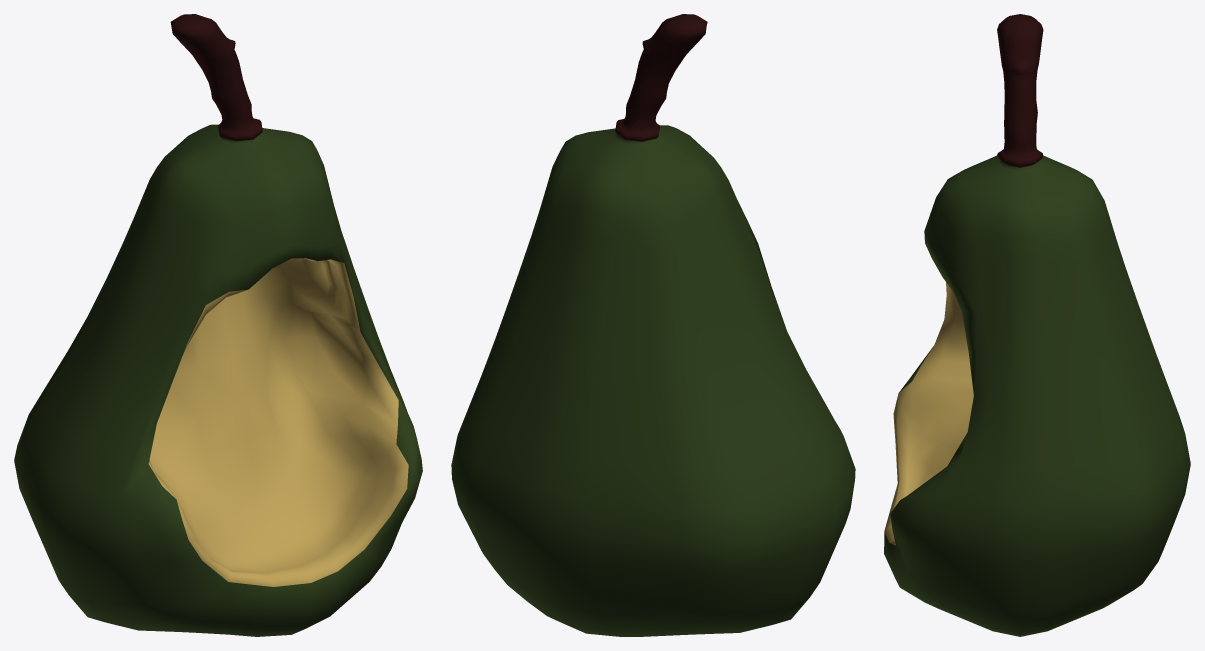
File: Pear.fbx
3 renders of one model, left to right at view 1: azimuth 30°, elevation 25°; view 2: azimuth 150°, elevation 25°; view 3: azimuth 270°, elevation 25°, orthographic. The views are drawn at different scales.
Parts seen in each view (by area): view 1: Whole Pear2; view 2: Whole Pear2; view 3: Whole Pear2.
Part boxes in pixels (bbox=[...]): Whole Pear2: bbox=[14, 14, 422, 636]; Whole Pear2: bbox=[451, 14, 855, 636]; Whole Pear2: bbox=[884, 14, 1190, 636].
Bounding box in the file's own units: 53.29 × 87.58 × 42.17.
